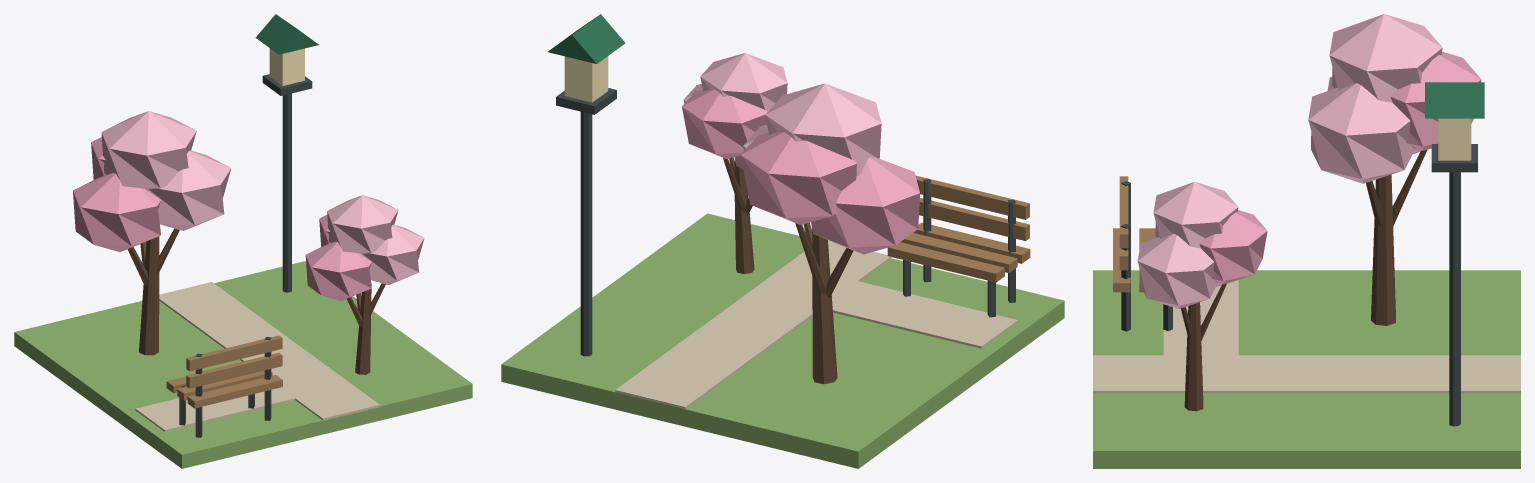
File: cherry-park.glb
3 renders of one model, left to right at view 1: azimuth 30°, elevation 25°; view 2: azimuth 150°, elevation 25°; view 3: azimuth 270°, elevation 25°, orthographic. The views are drawn at different scales.
Parts seen in each view (by area): view 1: Grass, PinkLight, Path, Pink, Wood, WoodDark, Metal, Green, Lamp; view 2: Grass, Path, Pink, PinkLight, Wood, WoodDark, Metal, Green, Lamp; view 3: Grass, PinkLight, Path, Pink, WoodDark, Metal, Green, Wood, Lamp.
Boxes of the visible parts, x1,y1,x2,y2 form: Grass: [14, 261, 472, 468]; PinkLight: [101, 111, 424, 284]; Path: [135, 282, 379, 431]; Pink: [73, 137, 371, 300]; Wood: [166, 335, 282, 408]; WoodDark: [127, 228, 385, 374]; Metal: [179, 74, 312, 437]; Green: [255, 14, 318, 54]; Lamp: [269, 48, 304, 85]; Grass: [501, 213, 1064, 468]; Path: [615, 240, 1017, 409]; Pink: [682, 89, 920, 254]; PinkLight: [683, 53, 881, 176]; Wood: [887, 175, 1030, 282]; WoodDark: [723, 157, 853, 384]; Metal: [556, 88, 1015, 356]; Green: [548, 14, 625, 63]; Lamp: [564, 56, 608, 102]; Grass: [1093, 270, 1520, 468]; PinkLight: [1137, 14, 1442, 308]; Path: [1093, 280, 1520, 393]; Pink: [1152, 51, 1481, 286]; WoodDark: [1181, 150, 1427, 411]; Metal: [1121, 144, 1477, 426]; Green: [1425, 82, 1484, 118]; Wood: [1113, 176, 1155, 292]; Lamp: [1438, 118, 1471, 160].
Bounding box in the file's own units: 1.94 × 1.8 × 1.94.
